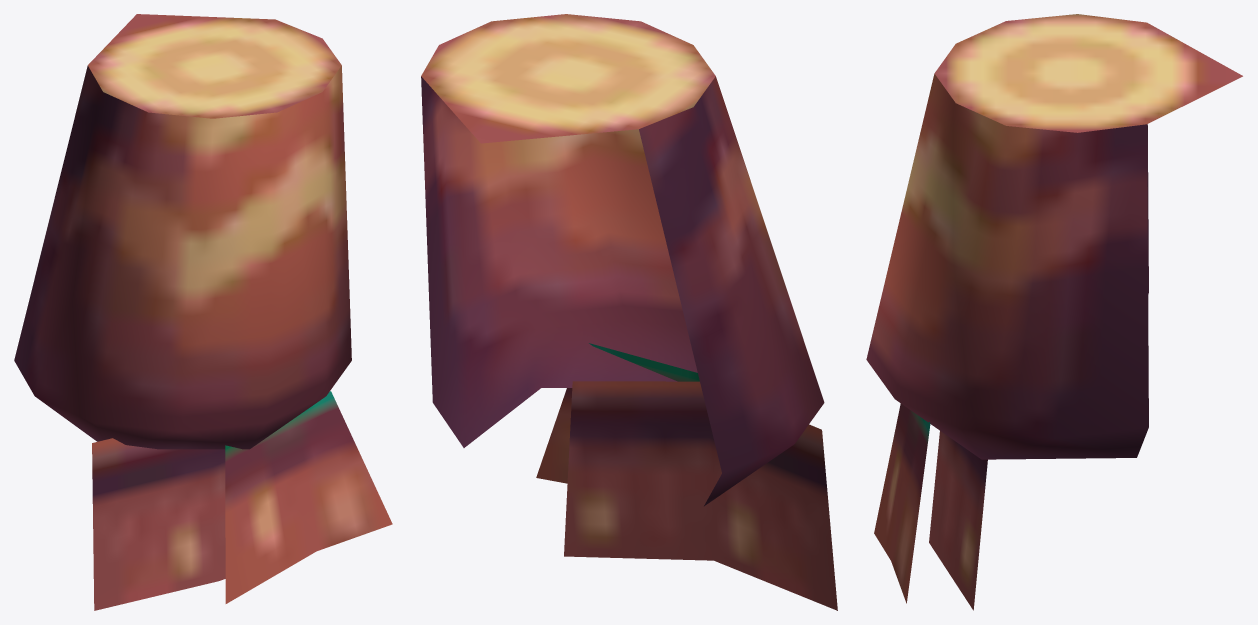
Rendered from fg_treeC_2_b.dae.
3 renders of one model, left to right at view 1: azimuth 30°, elevation 25°; view 2: azimuth 150°, elevation 25°; view 3: azimuth 270°, elevation 25°, orthographic. The views are drawn at different scales.
Parts seen in each view (by area): view 1: fg_treeC_2_b; view 2: fg_treeC_2_b; view 3: fg_treeC_2_b.
Boxes of the visible parts, x1,y1,x2,y2 form: fg_treeC_2_b: (14,14,392,610); fg_treeC_2_b: (421,14,837,610); fg_treeC_2_b: (866,14,1242,610).
Bounding box in the file's own units: 12 × 17.75 × 11.87.
1 material, 1 textured.
